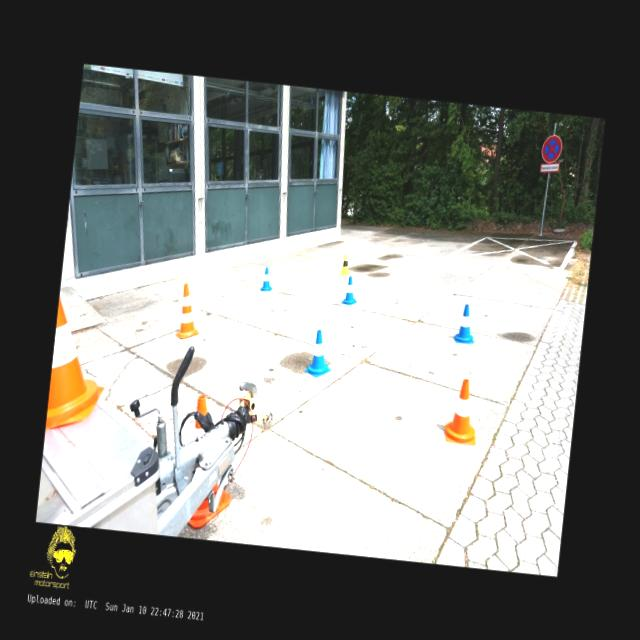blue_cone: (304, 328, 334, 378), (452, 302, 478, 343), (341, 275, 359, 306), (259, 266, 274, 291)
large_orange_cone: (184, 394, 240, 532), (174, 282, 204, 340)
orange_cone: (46, 296, 112, 435), (444, 378, 482, 444)
yellow_cone: (338, 253, 352, 276)
